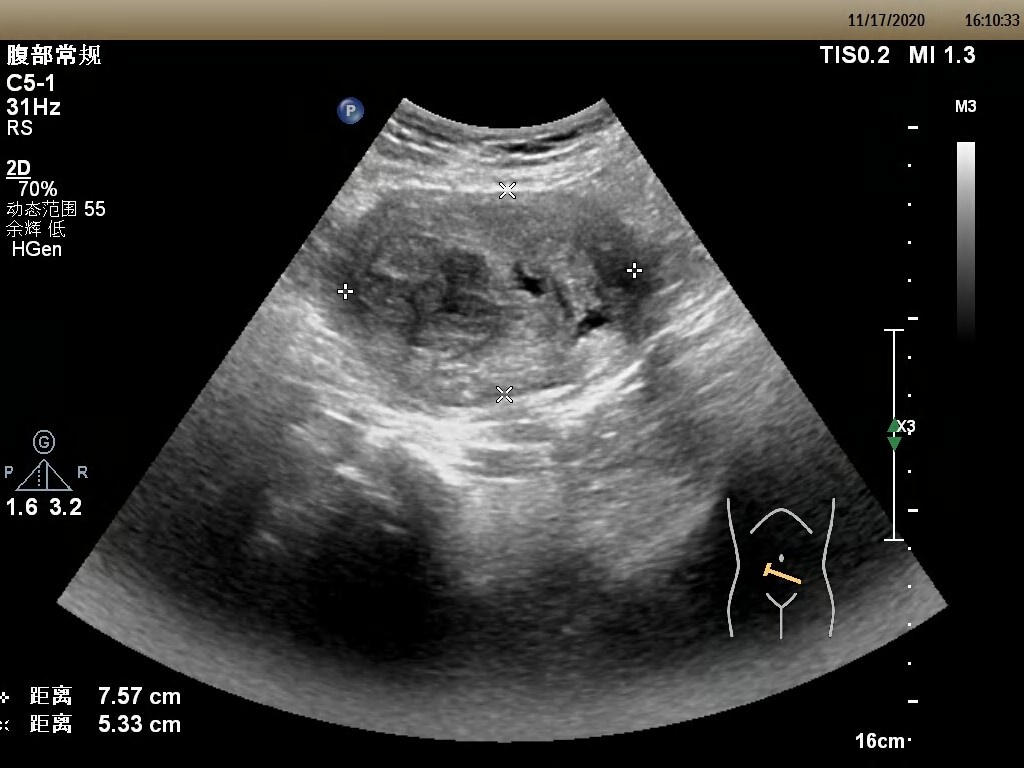肌瘤: (347, 188, 636, 406)
